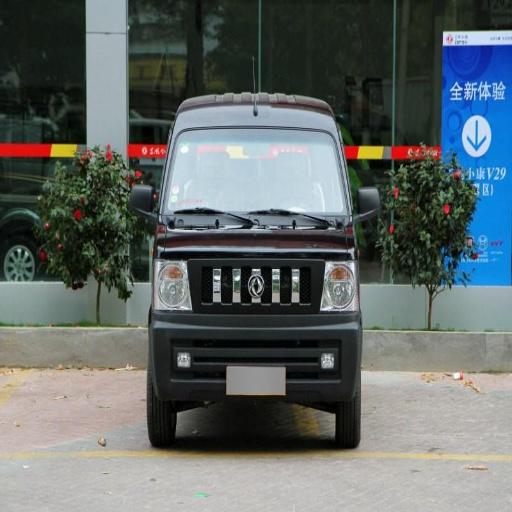front_bumper: (153, 248, 359, 407)
hood: (161, 224, 349, 257)
